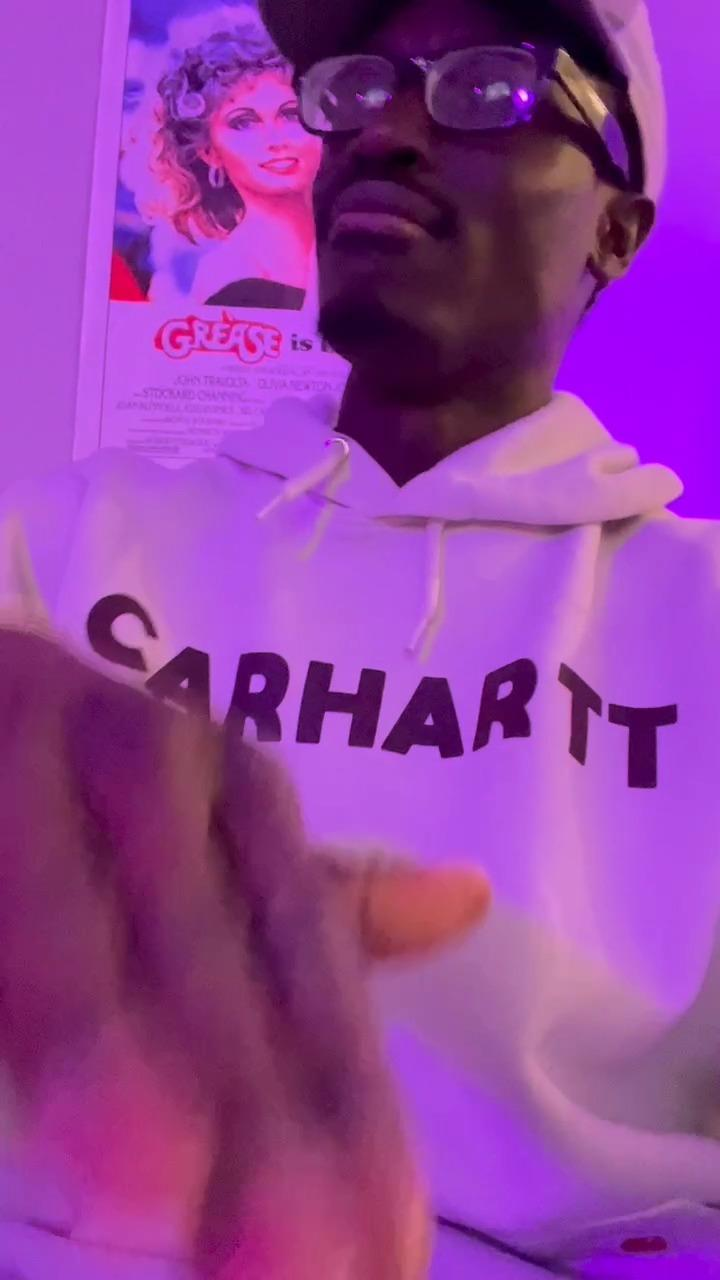Paper: (0, 632, 487, 1280)
